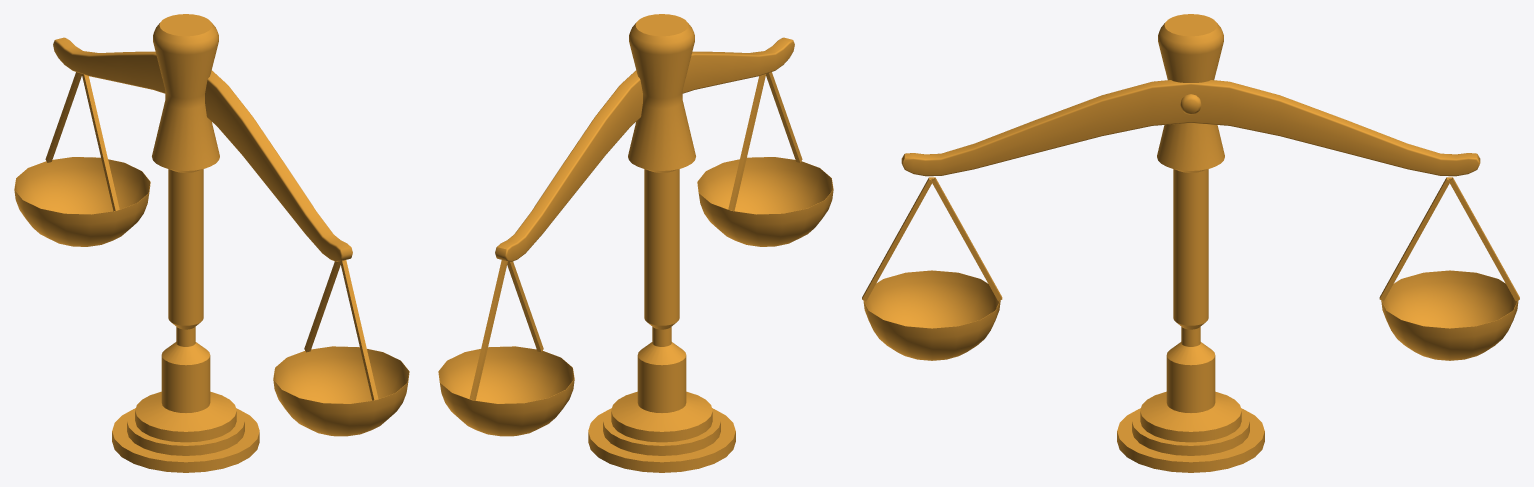
Rendered from Libra.fbx.
3 renders of one model, left to right at view 1: azimuth 30°, elevation 25°; view 2: azimuth 150°, elevation 25°; view 3: azimuth 270°, elevation 25°, orthographic.
Visible parts, largest first — view 1: Libra; view 2: Libra; view 3: Libra.
Boxes of the visible parts, left/top/right/bottom form: Libra: left=14, top=14, right=409, bottom=472; Libra: left=438, top=14, right=833, bottom=472; Libra: left=862, top=14, right=1519, bottom=472.
Size of the model in its own units: 60.42 by 161 by 230.
